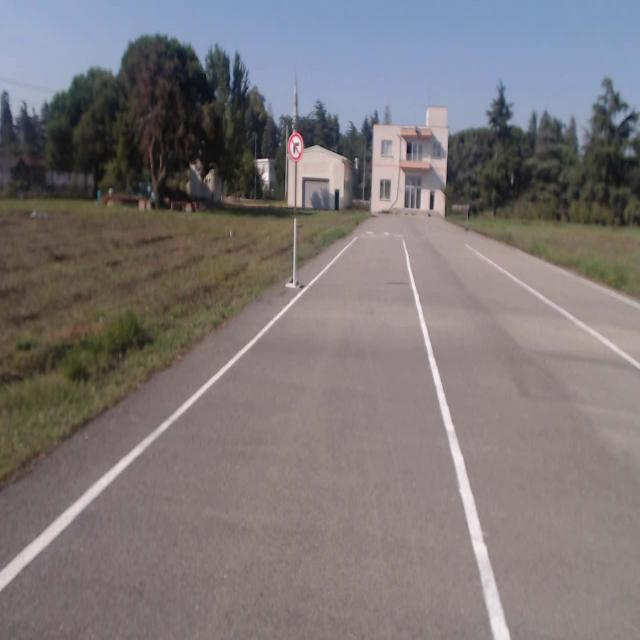sagadonulmez: (288, 132, 304, 162)
